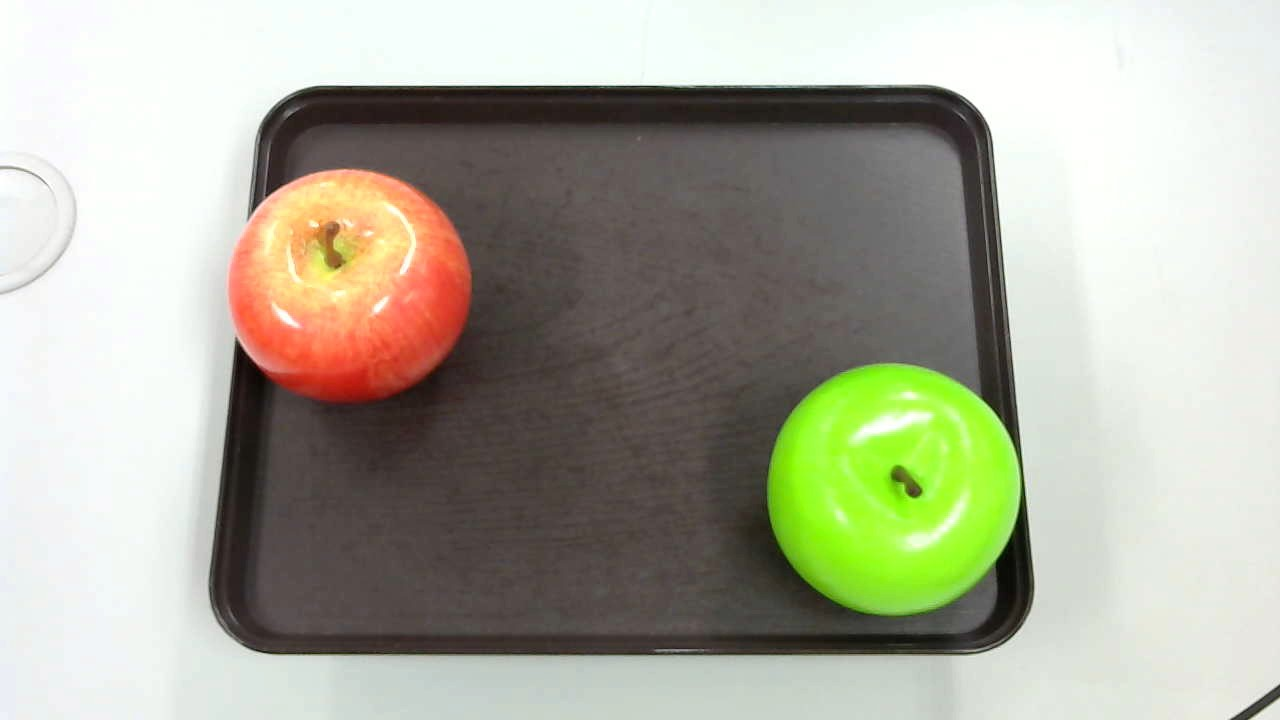green apple: (768, 355, 1026, 627)
red apple: (228, 155, 473, 413)
